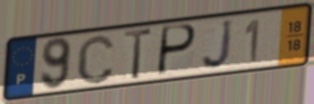1: (243, 17, 260, 64)
9: (38, 35, 73, 93)
C: (75, 32, 116, 87)
J: (200, 17, 235, 71)
P: (154, 22, 199, 78)
T: (122, 26, 155, 82)
